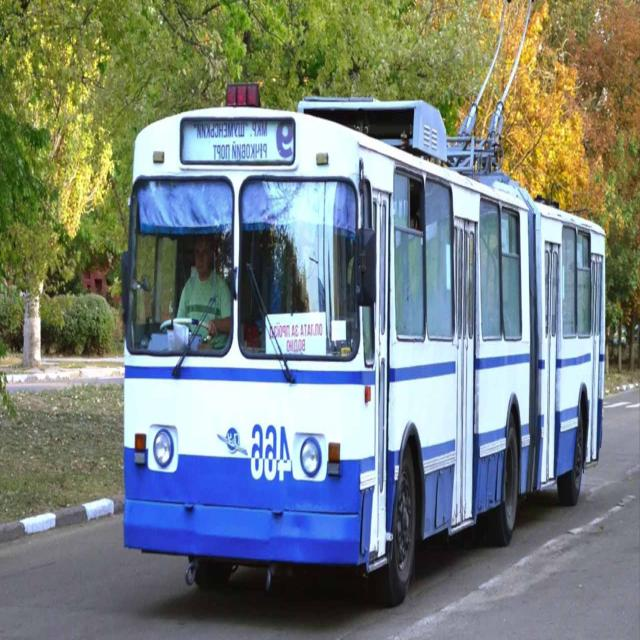bus: (116, 80, 613, 610)
